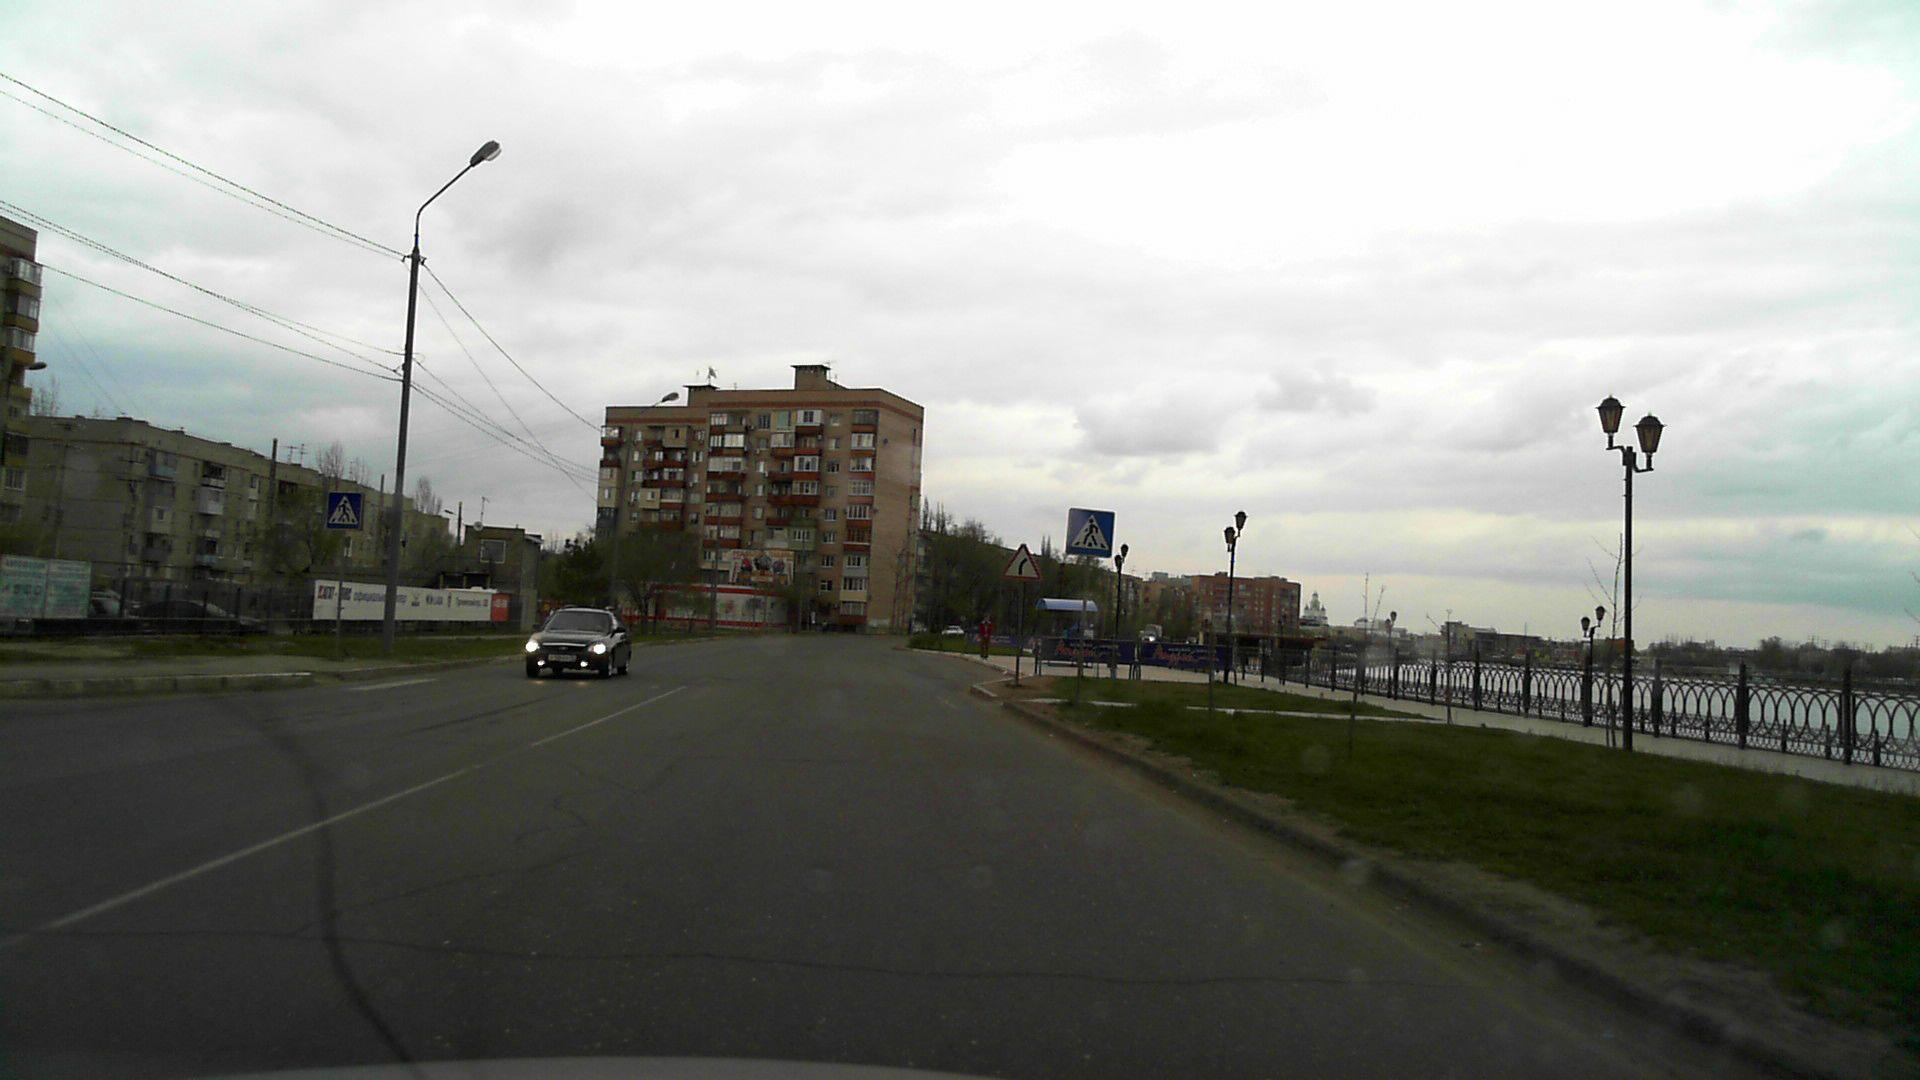1_11_1: (1002, 543, 1040, 579)
5_19_1: (1064, 508, 1114, 556)
5_19_2: (327, 491, 364, 527)
